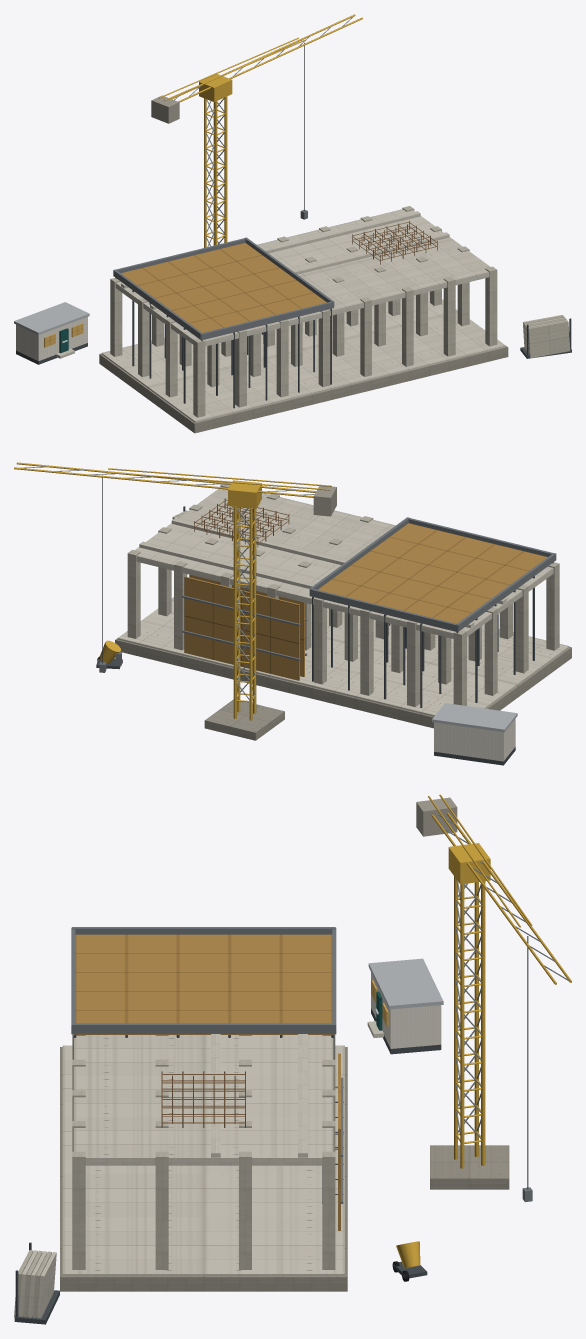
The model's file is lf-2-construction.glb.
3 renders of one model, top to bottom at view 1: azimuth 30°, elevation 25°; view 2: azimuth 150°, elevation 25°; view 3: azimuth 270°, elevation 25°, orthographic. The views are drawn at different scales.
Bounding box in the file's own units: 37.35 × 18.55 × 28.14.
Materials: 21 (12 with a texture image).
